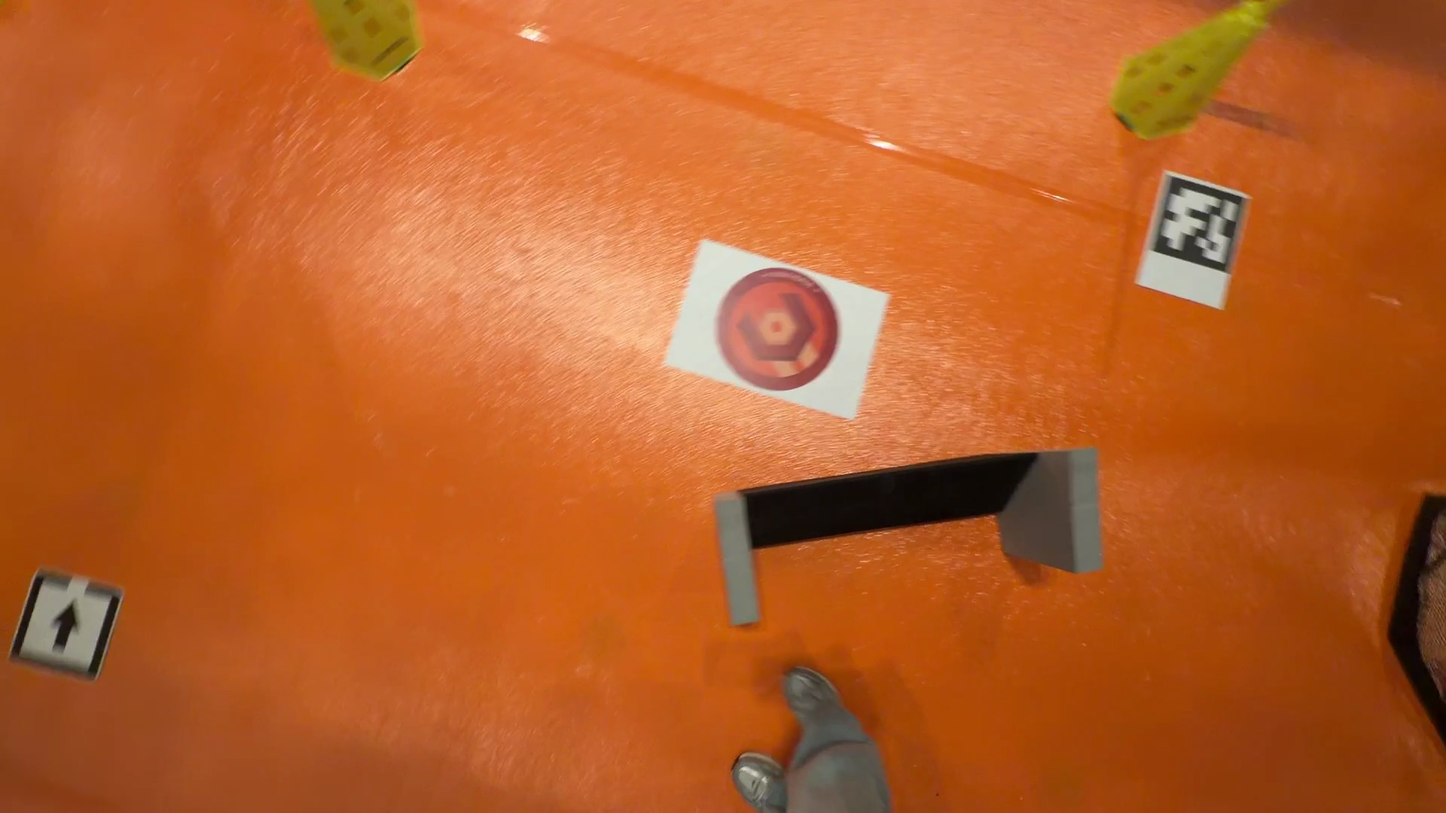landing_pad: (713, 266, 841, 390)
